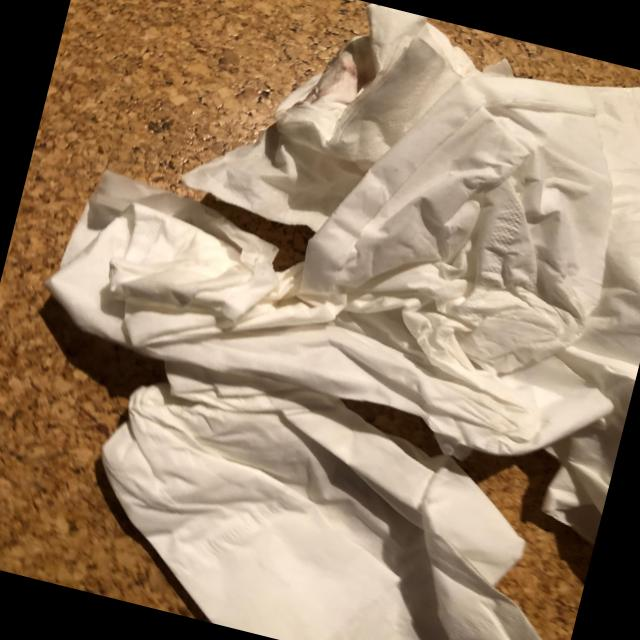organic waste: (31, 161, 640, 480), (269, 0, 640, 459), (58, 339, 614, 640), (173, 0, 517, 268)
